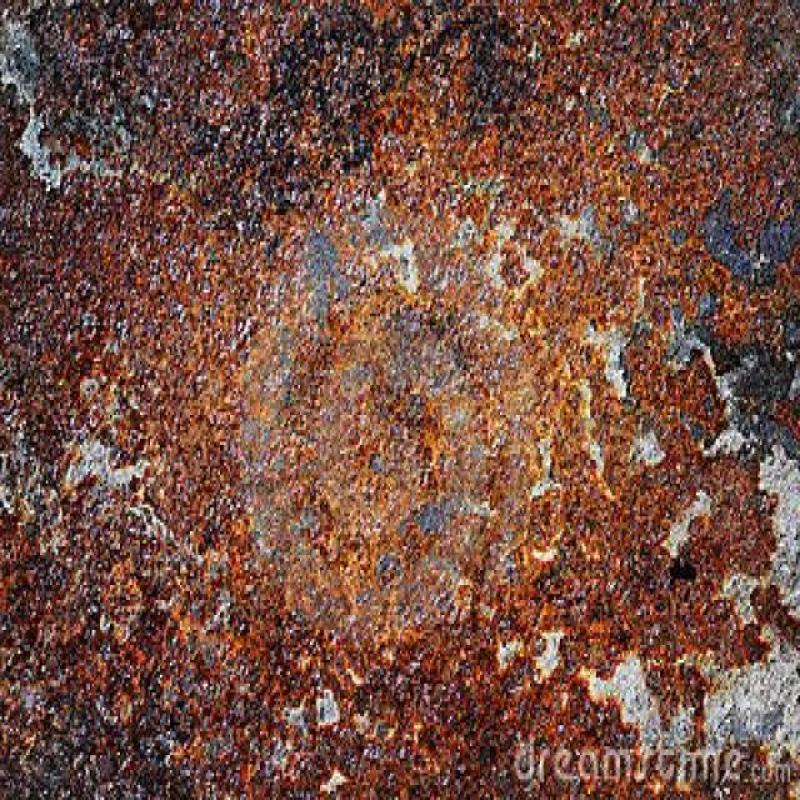corrosion: (93, 5, 695, 700)
